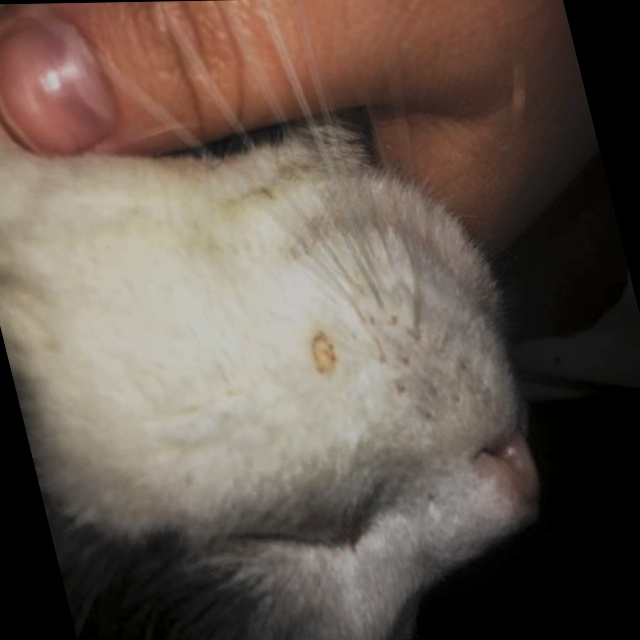lump_and_bump: (307, 335, 339, 375)
